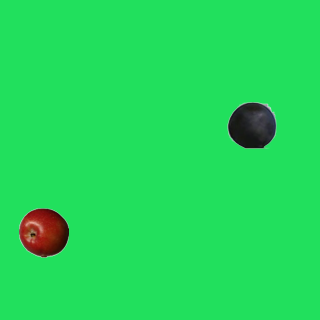Apple Braeburn: (18, 207, 68, 257)
Grape Blue: (226, 99, 276, 149)
